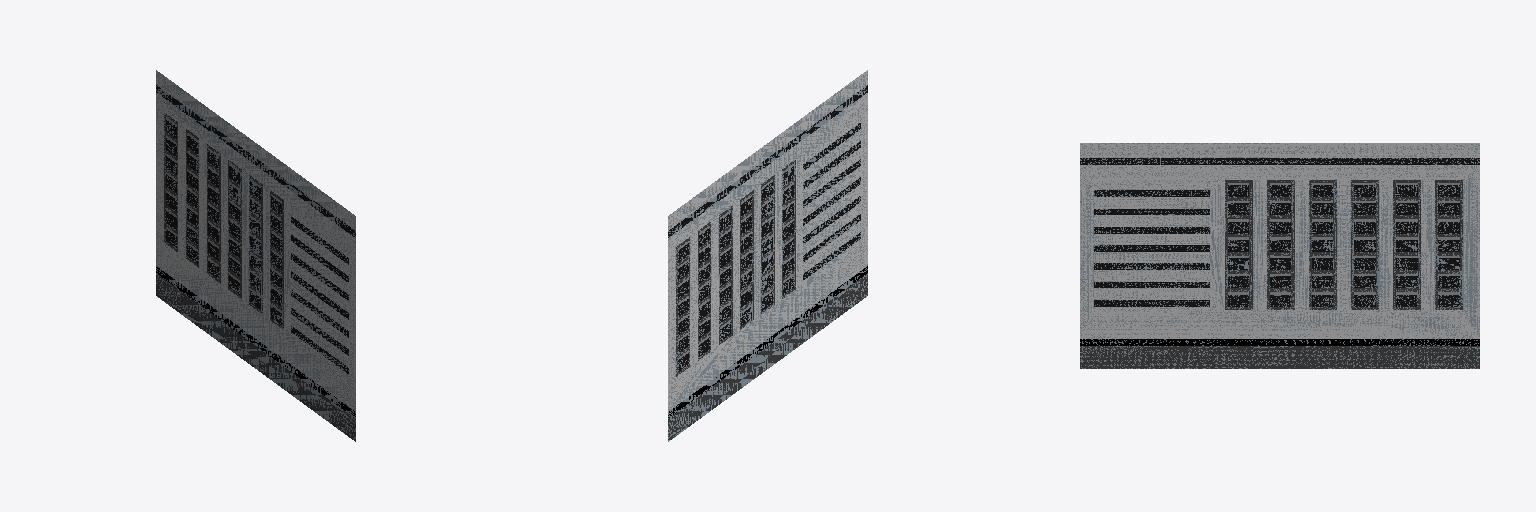
Rendered from budova2.obj.
The picture shows the model from 3 angles: view 1: azimuth 30°, elevation 25°; view 2: azimuth 150°, elevation 25°; view 3: azimuth 270°, elevation 25°; orthographic projection.
Visible parts, largest first — view 1: Mesh1 Model; view 2: Mesh1 Model; view 3: Mesh1 Model.
Part boxes in pixels (x1,y1,x2,y2): Mesh1 Model: (156, 70, 355, 441); Mesh1 Model: (668, 70, 867, 441); Mesh1 Model: (1080, 143, 1479, 368).
Size of the model in its own units: 0 by 15 by 24.